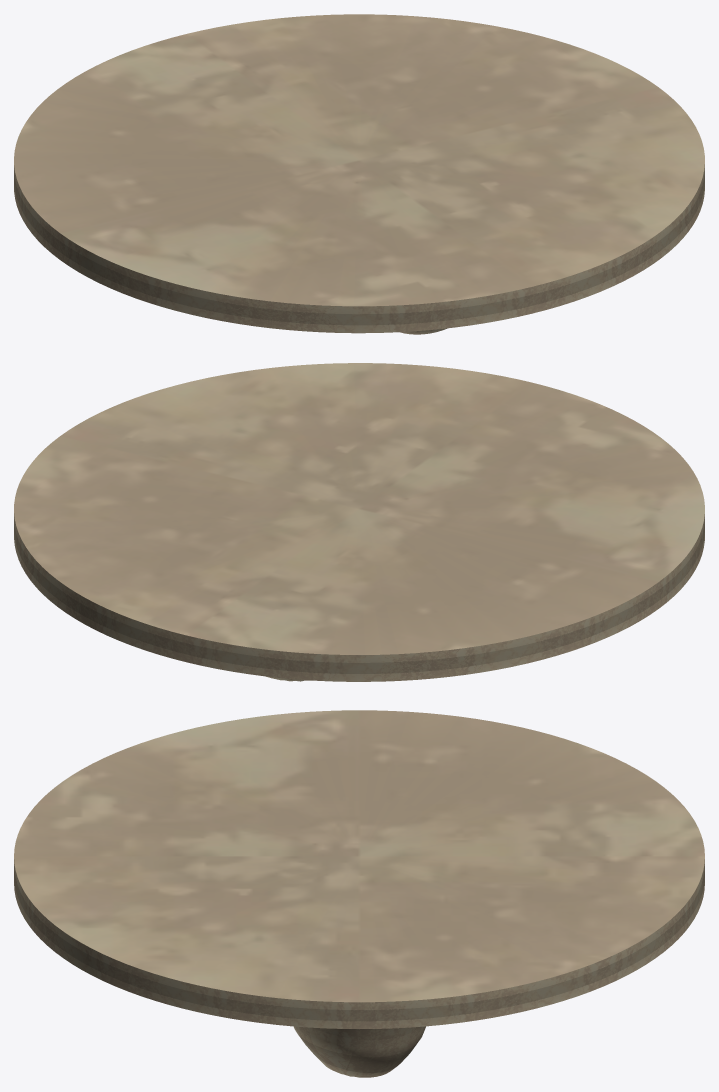
Rendered from island_small.glb.
3 renders of one model, top to bottom at view 1: azimuth 30°, elevation 25°; view 2: azimuth 150°, elevation 25°; view 3: azimuth 270°, elevation 25°, orthographic.
Parts seen in each view (by area): view 1: IslandStone; view 2: IslandStone; view 3: IslandStone.
Boxes of the visible parts, <box> form: IslandStone: <box>14,14,704,334</box>; IslandStone: <box>14,363,704,681</box>; IslandStone: <box>14,710,704,1077</box>.
Bounding box in the file's own units: 28 × 8 × 28.
1 material, 1 textured.
